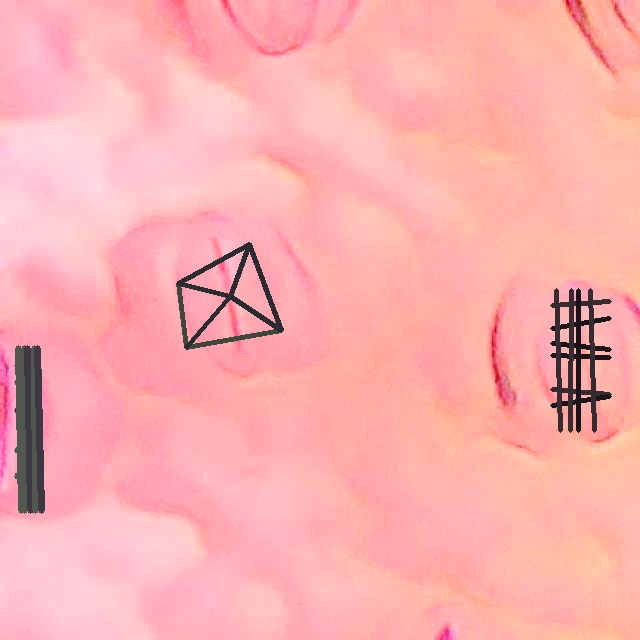close: (176, 242, 283, 349), (550, 288, 611, 432)
open: (14, 345, 41, 513)
